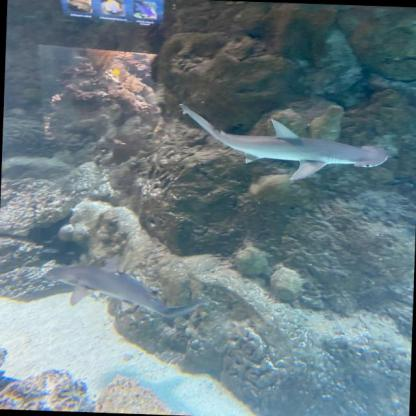shark: (177, 103, 390, 184), (43, 250, 211, 320)
